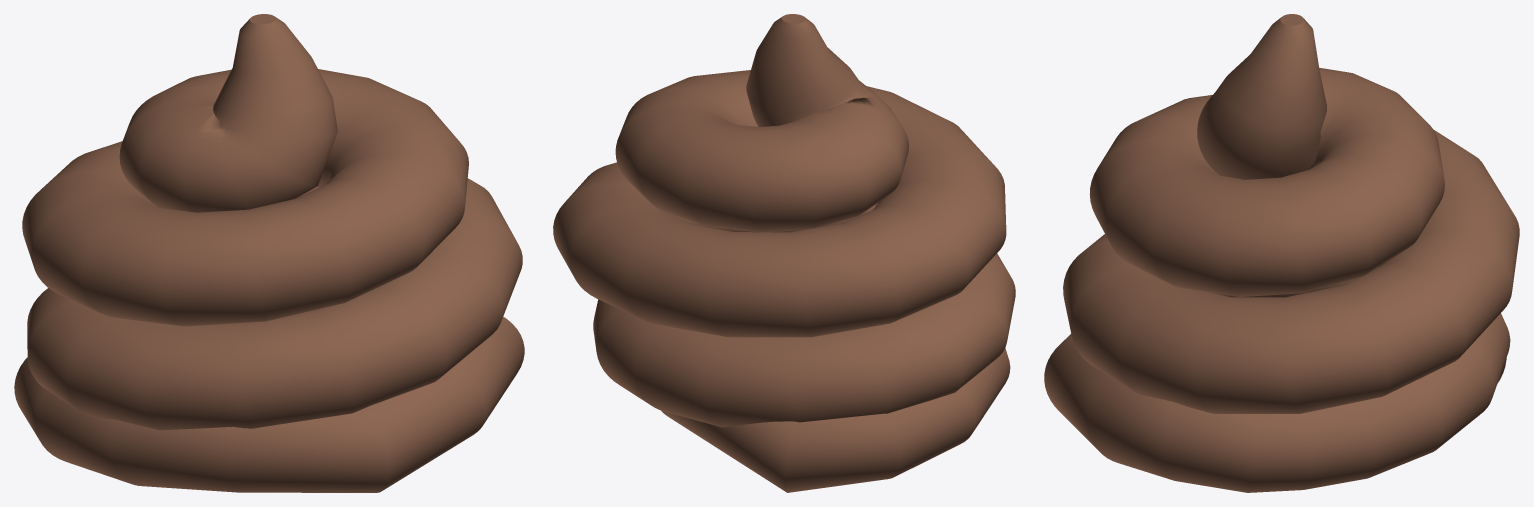
Rendered from poop.fbx.
3 renders of one model, left to right at view 1: azimuth 30°, elevation 25°; view 2: azimuth 150°, elevation 25°; view 3: azimuth 270°, elevation 25°, orthographic. The views are drawn at different scales.
Parts seen in each view (by area): view 1: poop; view 2: poop; view 3: poop.
Part boxes in pixels (box(x1,y1,x2,y2)): poop: box(14, 14, 524, 492); poop: box(553, 14, 1015, 492); poop: box(1044, 14, 1519, 492).
Bounding box in the file's own units: 267 × 246 × 245.
